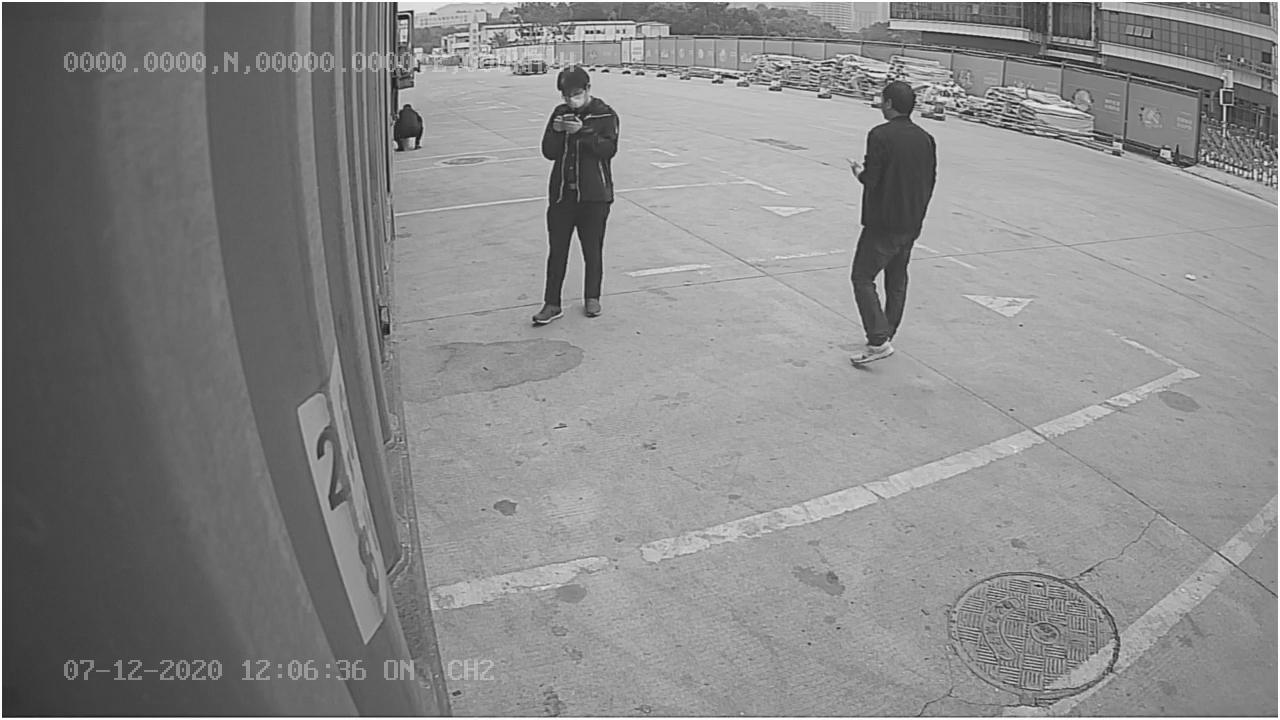person: (840, 75, 944, 364), (530, 61, 625, 329)
